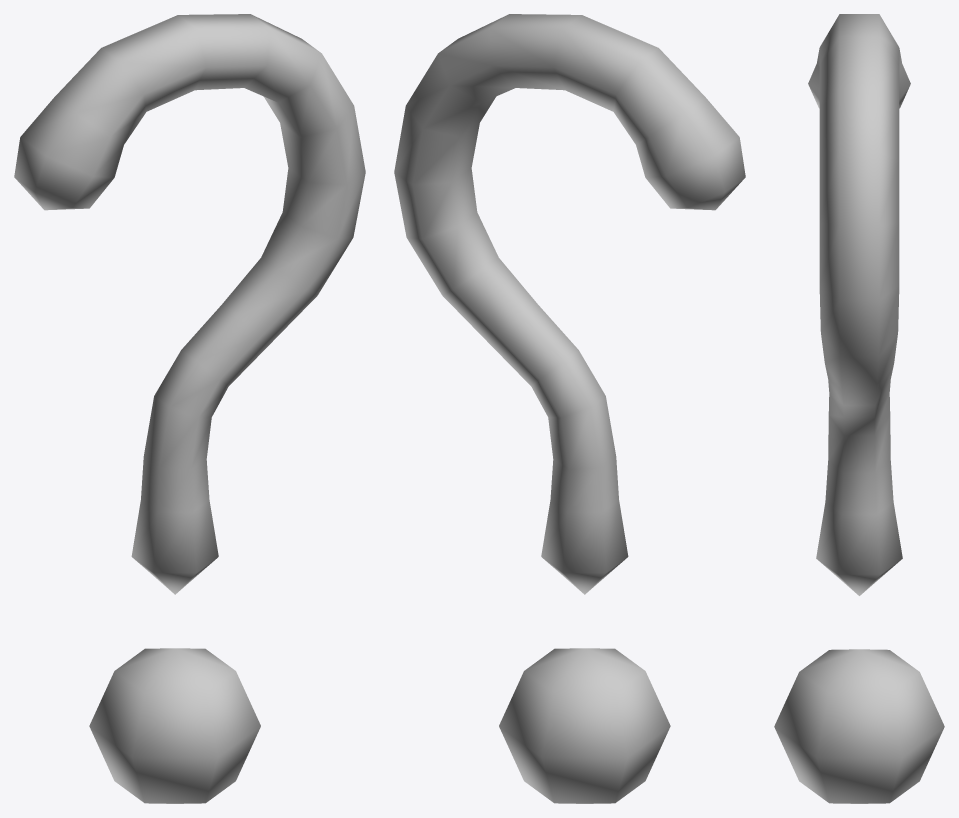
The model's file is SD_Qwest_emoticon_03.fbx.
The picture shows the model from 3 angles, left to right: view 1: azimuth 30°, elevation 25°; view 2: azimuth 150°, elevation 25°; view 3: azimuth 270°, elevation 25°; orthographic projection.
Parts seen in each view (by area): view 1: polySurface4; view 2: polySurface4; view 3: polySurface4.
Boxes of the visible parts, bbox=[...] form: polySurface4: bbox=[14, 14, 365, 803]; polySurface4: bbox=[394, 14, 745, 803]; polySurface4: bbox=[774, 14, 944, 803].
Size of the model in its own units: 0.7845 by 1.76 by 0.3525.
